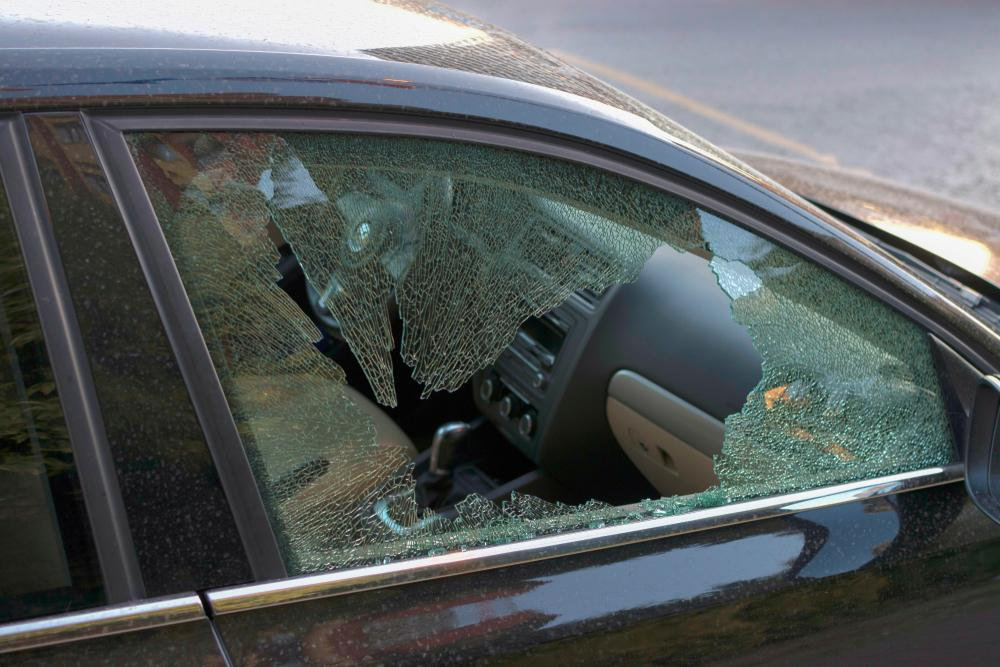glass shatter: (122, 131, 958, 578)
